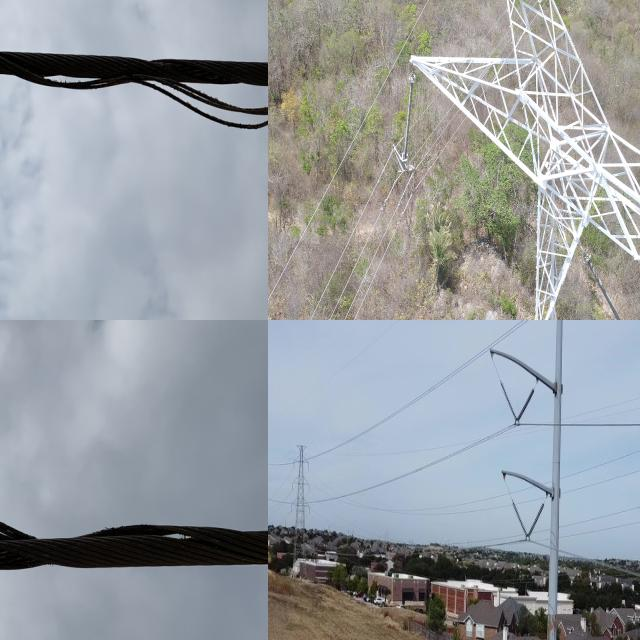杆塔: (412, 0, 640, 320), (289, 436, 311, 568)
正常绝缘子: (581, 248, 625, 320), (400, 54, 420, 176), (494, 372, 522, 433), (510, 384, 539, 436), (506, 492, 533, 546), (521, 497, 549, 547), (636, 533, 640, 577)
电缆破损: (0, 43, 268, 135), (0, 489, 244, 579)
